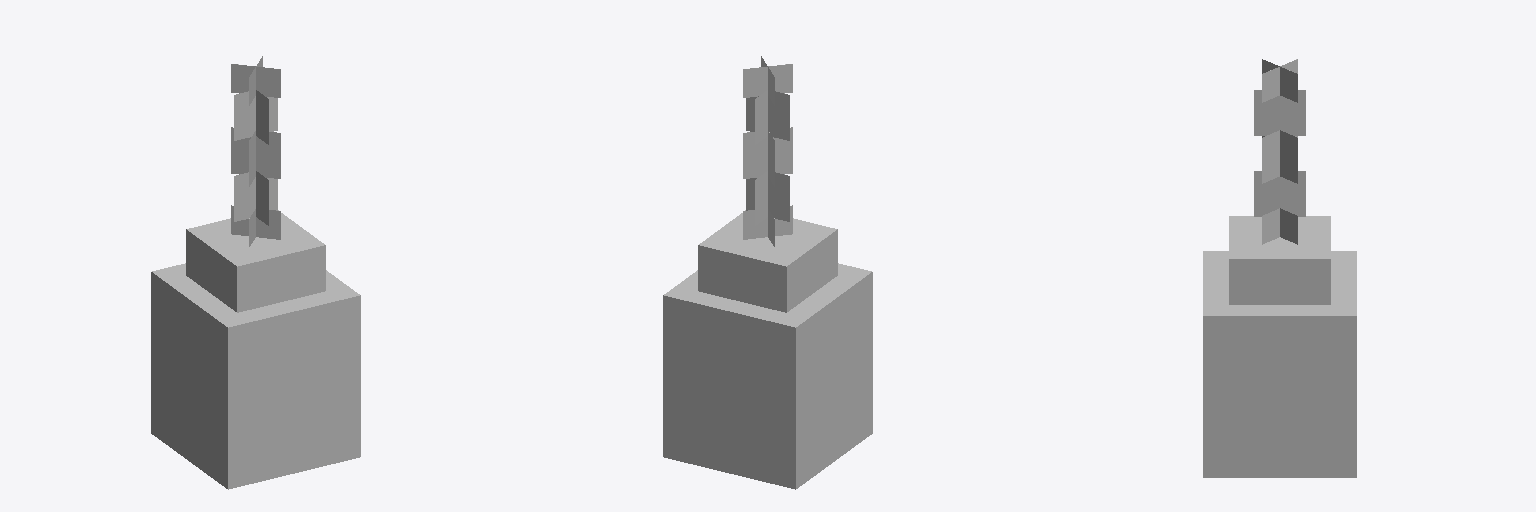
Rendered from rocklantern.obj.
3 views of the same model, side by side, from view 1: azimuth 30°, elevation 25°; view 2: azimuth 150°, elevation 25°; view 3: azimuth 270°, elevation 25° (orthographic).
Parts seen in each view (by area): view 1: cube, &GenericLight_FFFFFF_FFFFF_000; view 2: cube, &GenericLight_FFFFFF_FFFFF_000; view 3: cube, &GenericLight_FFFFFF_FFFFF_000.
Boxes of the visible parts, x1,y1,x2,y2 form: cube: [151, 56, 360, 489]; &GenericLight_FFFFFF_FFFFF_000: [151, 295, 360, 466]; cube: [663, 56, 872, 489]; &GenericLight_FFFFFF_FFFFF_000: [663, 295, 872, 466]; cube: [1203, 59, 1356, 477]; &GenericLight_FFFFFF_FFFFF_000: [1203, 339, 1356, 454].
Bounding box in the file's own units: 0.3762 × 1.02 × 0.3762.